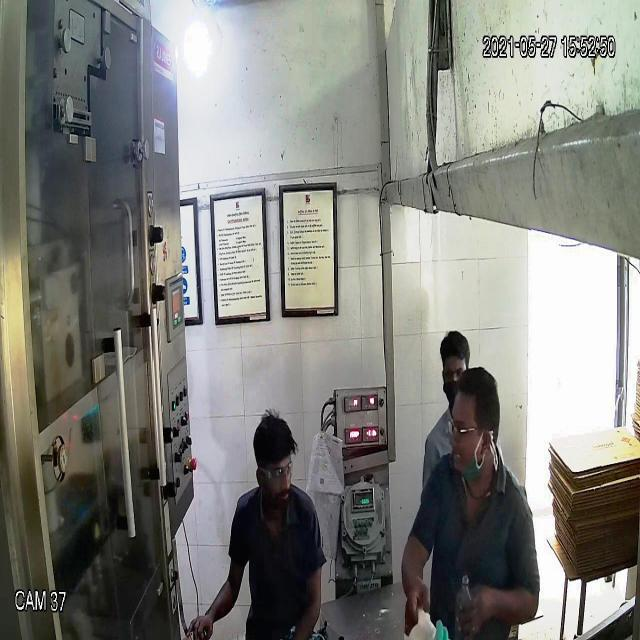glasses: (443, 415, 489, 445), (252, 458, 299, 484)
no-glass: (437, 364, 466, 385)
